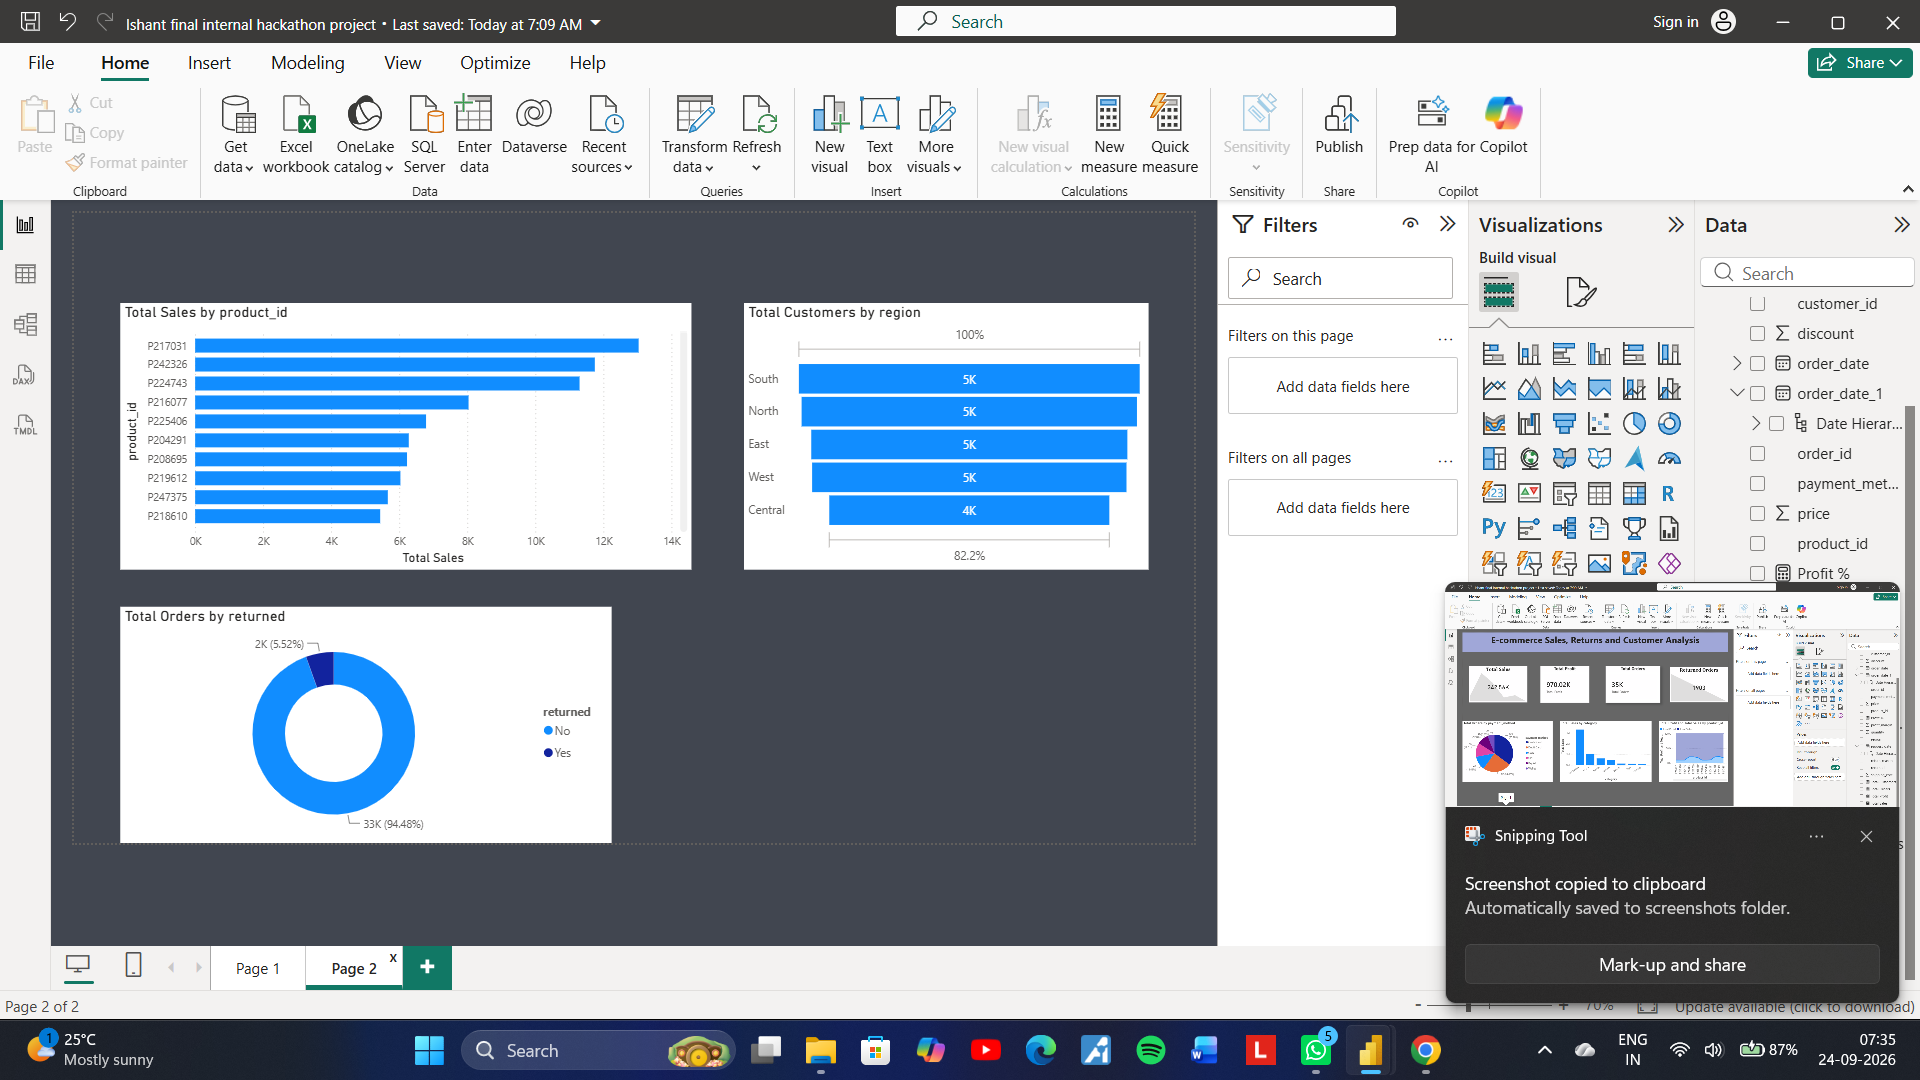

What the dashboard file says about the page in this screenshot:
{"tool":"powerbi","page":{"name":"Page 2","canvas":[1280,720],"ordinal":1},"visuals":[{"type":"barChart","fields":{"Category":["Dataset.product_id"],"Y":["Dataset.Total Sales"]},"box":[52.1,102.9,653.2,304.6],"z":0},{"type":"funnel","fields":{"Category":["Dataset.region"],"Y":["Dataset.Total Customers"]},"box":[765.7,102.9,462.4,304.6],"z":1},{"type":"donutChart","fields":{"Category":["Dataset.returned"],"Y":["Dataset.Total Orders"]},"box":[52.1,450.1,561.2,270.3],"z":2}]}

Visuals, with their boxes on the page's 1280x720 design canvas (x1, y1, x2, y2). These are canvas units, not pixel positions in the 1920x1080 screenshot, which may show the page scaled, cropped or inside an application window:
barChart - Dataset.product_id x Dataset.Total Sales: (x1=52, y1=103, x2=705, y2=408)
funnel - Dataset.region x Dataset.Total Customers: (x1=766, y1=103, x2=1228, y2=408)
donutChart - Dataset.returned x Dataset.Total Orders: (x1=52, y1=450, x2=613, y2=720)
